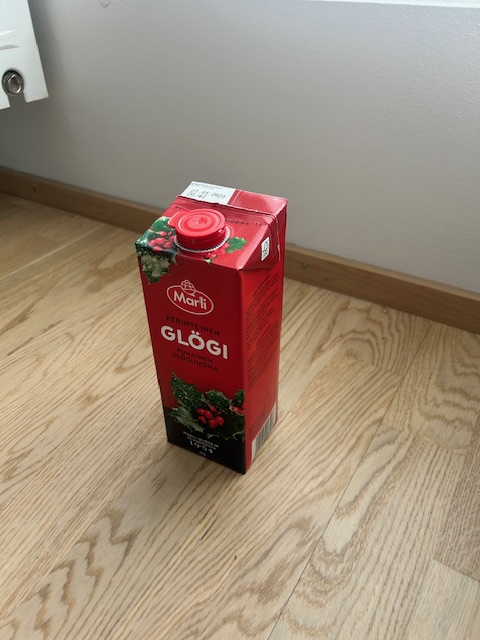Dryckeskartong: (134, 179, 288, 475)
